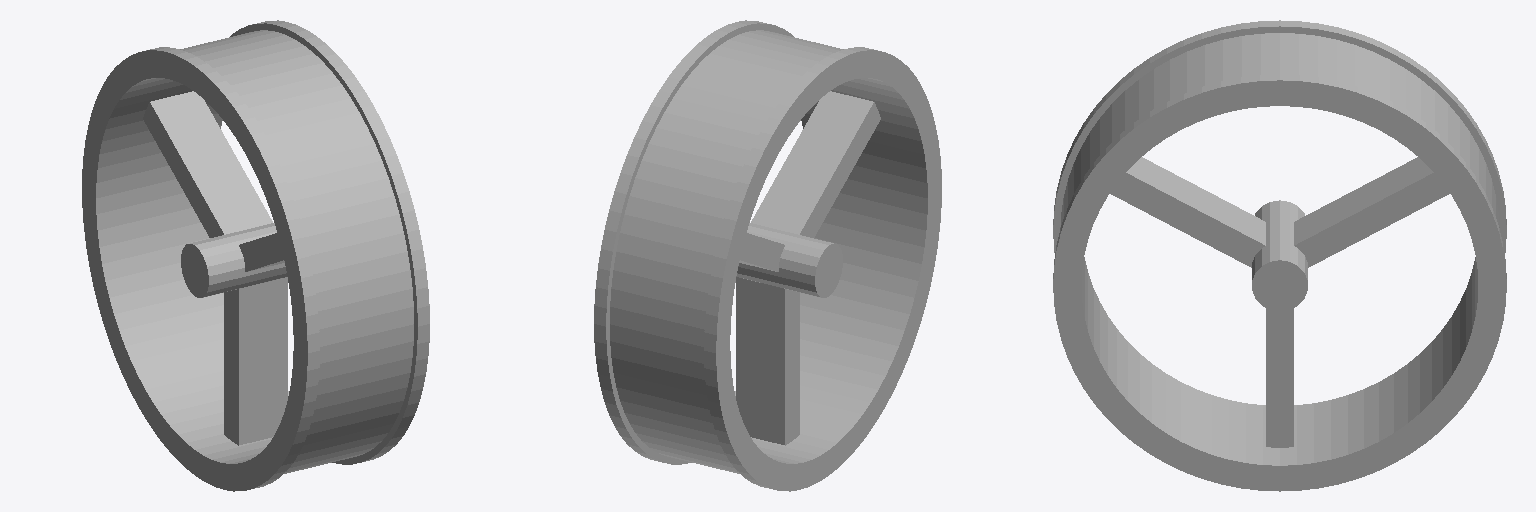
The robot description file, URDF, robot "root":
<?xml version='1.0' encoding='utf-8'?>
<robot name="root">
  <link name="link_001">
    <visual>
      <origin xyz="0 0 0" rpy="0 0 0" />
      <geometry>
        <mesh filename="ffd323b4f300df9a2b0a84e75edeceed9dedc352626dfead224b9e7eed450acb_scale_007.stl" scale="1.0000E+00 1.0000E+00 1.0000E+00" />
      </geometry>
      <material name="">
        <color rgba="7.50E-01 7.50E-01 7.50E-01 1" />
      </material>
    </visual>
    <collision>
      <origin xyz="0 0 0" rpy="0 0 0" />
      <geometry>
        <mesh filename="ffd323b4f300df9a2b0a84e75edeceed9dedc352626dfead224b9e7eed450acb_scale_007.stl" scale="1.0000E+00 1.0000E+00 1.0000E+00" />
      </geometry>
    </collision>
  </link>
</robot>

--- Facts derived from the render (not from the file) ---
Views: 3 orthographic renders of the robot side by side, from view 1: azimuth 30°, elevation 25°; view 2: azimuth 150°, elevation 25°; view 3: azimuth 270°, elevation 25°.
Robot: root — 1 links, 0 joints (none); root link link_001; default pose: all joints at 0.
Links seen in each view (by area): view 1: link_001; view 2: link_001; view 3: link_001.
Link boxes in pixels (x1,y1,x2,y2): link_001: (82,20,429,491); link_001: (594,20,941,491); link_001: (1053,20,1506,491).
Size in the robot's own frame: 0.0344 by 0.1101 by 0.1101 metres.
Meshes: 1 distinct files referenced, 1 mesh visuals loaded (1 binary STL).
